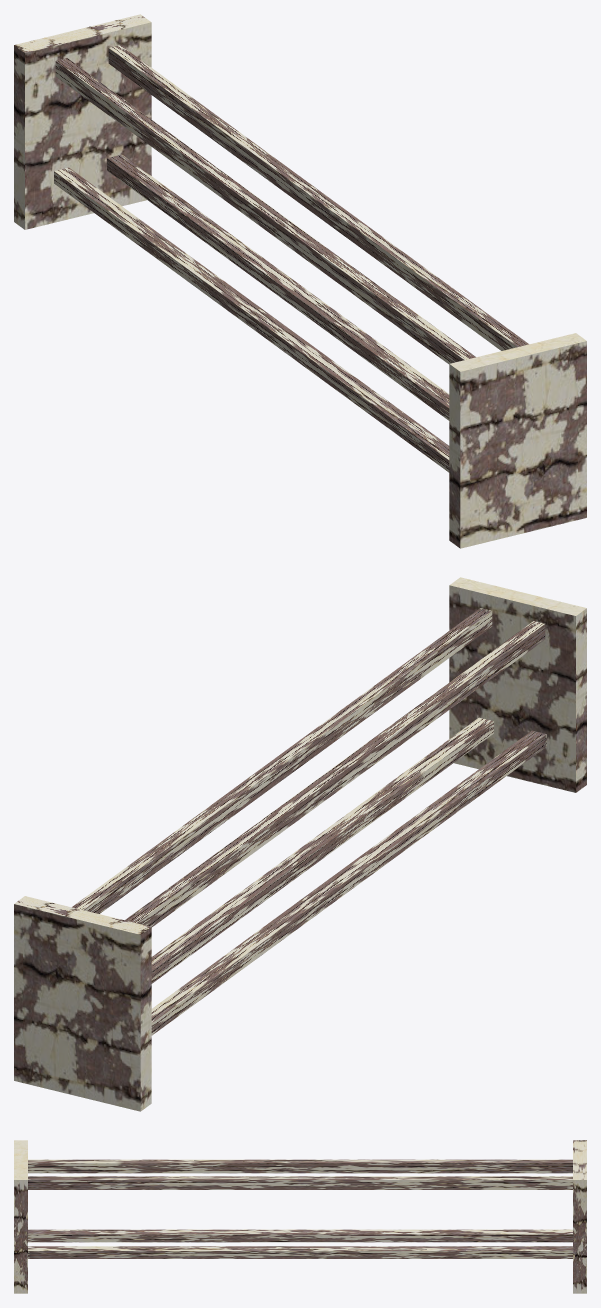
File: BALLRACK2.glb
3 views of the same model, one above another, from view 1: azimuth 30°, elevation 25°; view 2: azimuth 150°, elevation 25°; view 3: azimuth 270°, elevation 25° (orthographic). The views are drawn at different scales.
Parts seen in each view (by area): view 1: Cube.001, Cube.007, Cube.002, Cube.006, Cube.004, Cube.005; view 2: Cube.007, Cube.001, Cube.002, Cube.006, Cube.004, Cube.005; view 3: Cube.002, Cube.006, Cube.004, Cube.005, Cube.001, Cube.007.
Boxes of the visible parts, x1,y1,x2,y2 form: Cube.001: (449, 333, 586, 548); Cube.007: (14, 14, 151, 229); Cube.002: (55, 58, 475, 364); Cube.006: (108, 45, 528, 350); Cube.004: (54, 167, 449, 472); Cube.005: (107, 154, 449, 420); Cube.007: (14, 896, 151, 1111); Cube.001: (449, 577, 586, 792); Cube.002: (125, 621, 545, 927); Cube.006: (72, 608, 492, 913); Cube.004: (151, 730, 546, 1035); Cube.005: (151, 717, 493, 983); Cube.002: (28, 1159, 572, 1173); Cube.006: (28, 1176, 572, 1189); Cube.004: (28, 1229, 572, 1242); Cube.005: (28, 1246, 572, 1258); Cube.001: (14, 1140, 27, 1293); Cube.007: (573, 1140, 586, 1293).
Size of the model in its own units: 0.4858 by 0.6484 by 2.97.
1 material, 1 textured.
